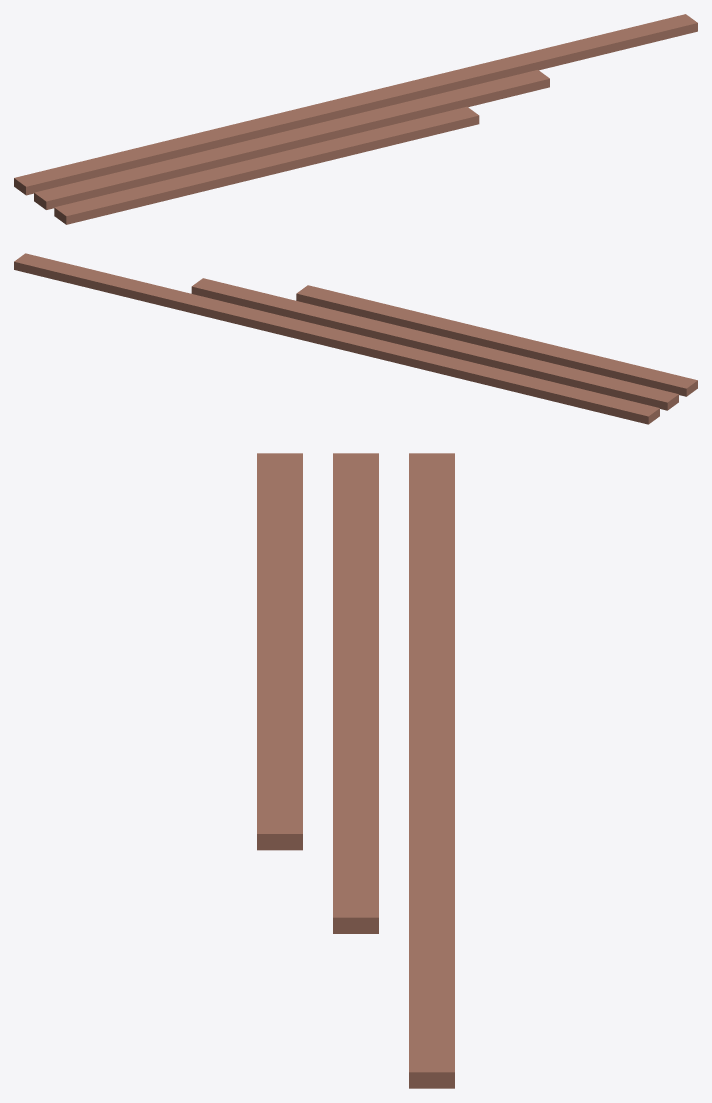
File: beam-153x60-steel_ipe_v0.1.glb
The picture shows the model from 3 angles, top to bottom: view 1: azimuth 30°, elevation 25°; view 2: azimuth 150°, elevation 25°; view 3: azimuth 270°, elevation 25°; orthographic projection. The views are drawn at different scales.
Parts seen in each view (by area): view 1: IB-27222_beam-153x60-steel_ipe_4880mm, IB-27221_beam-153x60-steel_ipe_3660mm, IB-27220_beam-153x60-steel_ipe_3000mm; view 2: IB-27222_beam-153x60-steel_ipe_4880mm, IB-27221_beam-153x60-steel_ipe_3660mm, IB-27220_beam-153x60-steel_ipe_3000mm; view 3: IB-27222_beam-153x60-steel_ipe_4880mm, IB-27221_beam-153x60-steel_ipe_3660mm, IB-27220_beam-153x60-steel_ipe_3000mm.
Boxes of the visible parts, x1=… form: IB-27222_beam-153x60-steel_ipe_4880mm: x1=14, y1=14, x2=697, y2=195; IB-27221_beam-153x60-steel_ipe_3660mm: x1=34, y1=70, x2=549, y2=209; IB-27220_beam-153x60-steel_ipe_3000mm: x1=54, y1=106, x2=479, y2=224; IB-27222_beam-153x60-steel_ipe_4880mm: x1=14, y1=253, x2=659, y2=424; IB-27221_beam-153x60-steel_ipe_3660mm: x1=191, y1=278, x2=678, y2=410; IB-27220_beam-153x60-steel_ipe_3000mm: x1=296, y1=285, x2=697, y2=396; IB-27222_beam-153x60-steel_ipe_4880mm: x1=409, y1=453, x2=454, y2=1088; IB-27221_beam-153x60-steel_ipe_3660mm: x1=333, y1=453, x2=378, y2=933; IB-27220_beam-153x60-steel_ipe_3000mm: x1=257, y1=453, x2=302, y2=850.
Bounding box in the file's own units: 4.88 × 0.06 × 0.659.
